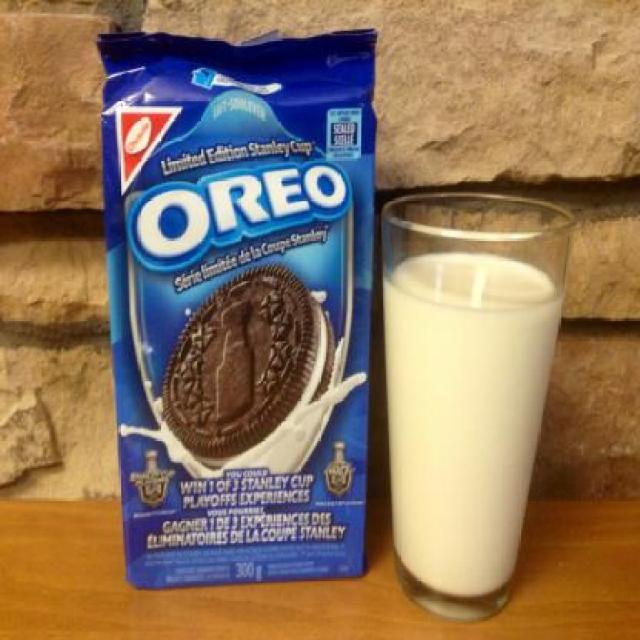Milk: (382, 254, 564, 597), (118, 286, 370, 492)
